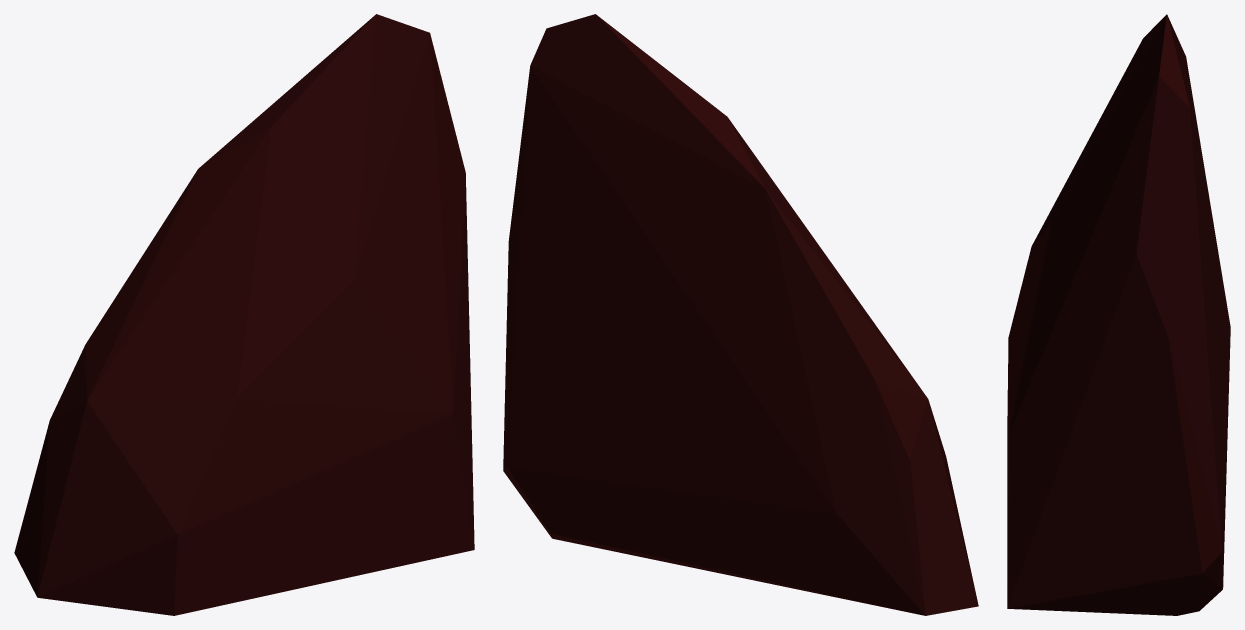
Rendered from UCX_Castle_Wall_C.fbx.
The picture shows the model from 3 angles, left to right: view 1: azimuth 30°, elevation 25°; view 2: azimuth 150°, elevation 25°; view 3: azimuth 270°, elevation 25°; orthographic projection. The views are drawn at different scales.
Visible parts, largest first — view 1: UCX_Castle_Wall_C; view 2: UCX_Castle_Wall_C; view 3: UCX_Castle_Wall_C.
Part boxes in pixels (box(x1,y1,x2,y2)): UCX_Castle_Wall_C: box(14, 14, 474, 615); UCX_Castle_Wall_C: box(503, 14, 978, 615); UCX_Castle_Wall_C: box(1007, 14, 1230, 615).
Size of the model in its own units: 865 by 945 by 329.
